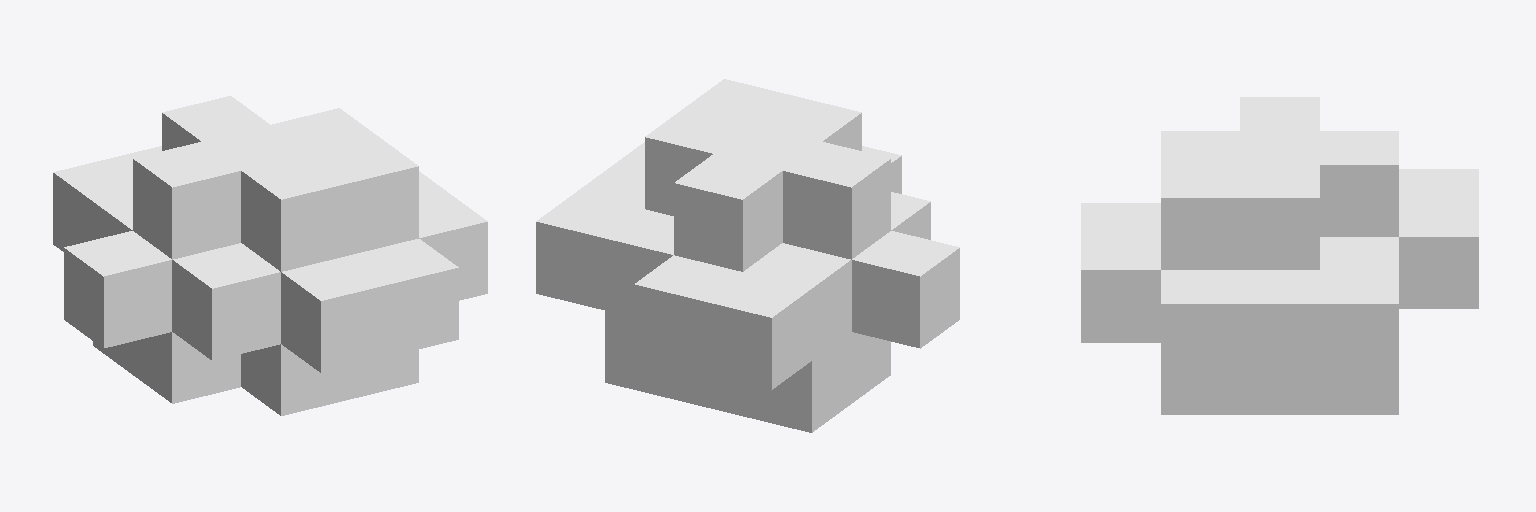
The model's file is particles-1.obj.
3 views of the same model, side by side, from view 1: azimuth 30°, elevation 25°; view 2: azimuth 150°, elevation 25°; view 3: azimuth 270°, elevation 25° (orthographic).
Parts seen in each view (by area): view 1: object 1; view 2: object 1; view 3: object 1.
Boxes of the visible parts, x1=… form: object 1: x1=53, y1=96, x2=487, y2=415; object 1: x1=536, y1=79, x2=959, y2=432; object 1: x1=1081, y1=97, x2=1478, y2=414.
Bounding box in the file's own units: 1 × 0.6 × 1.